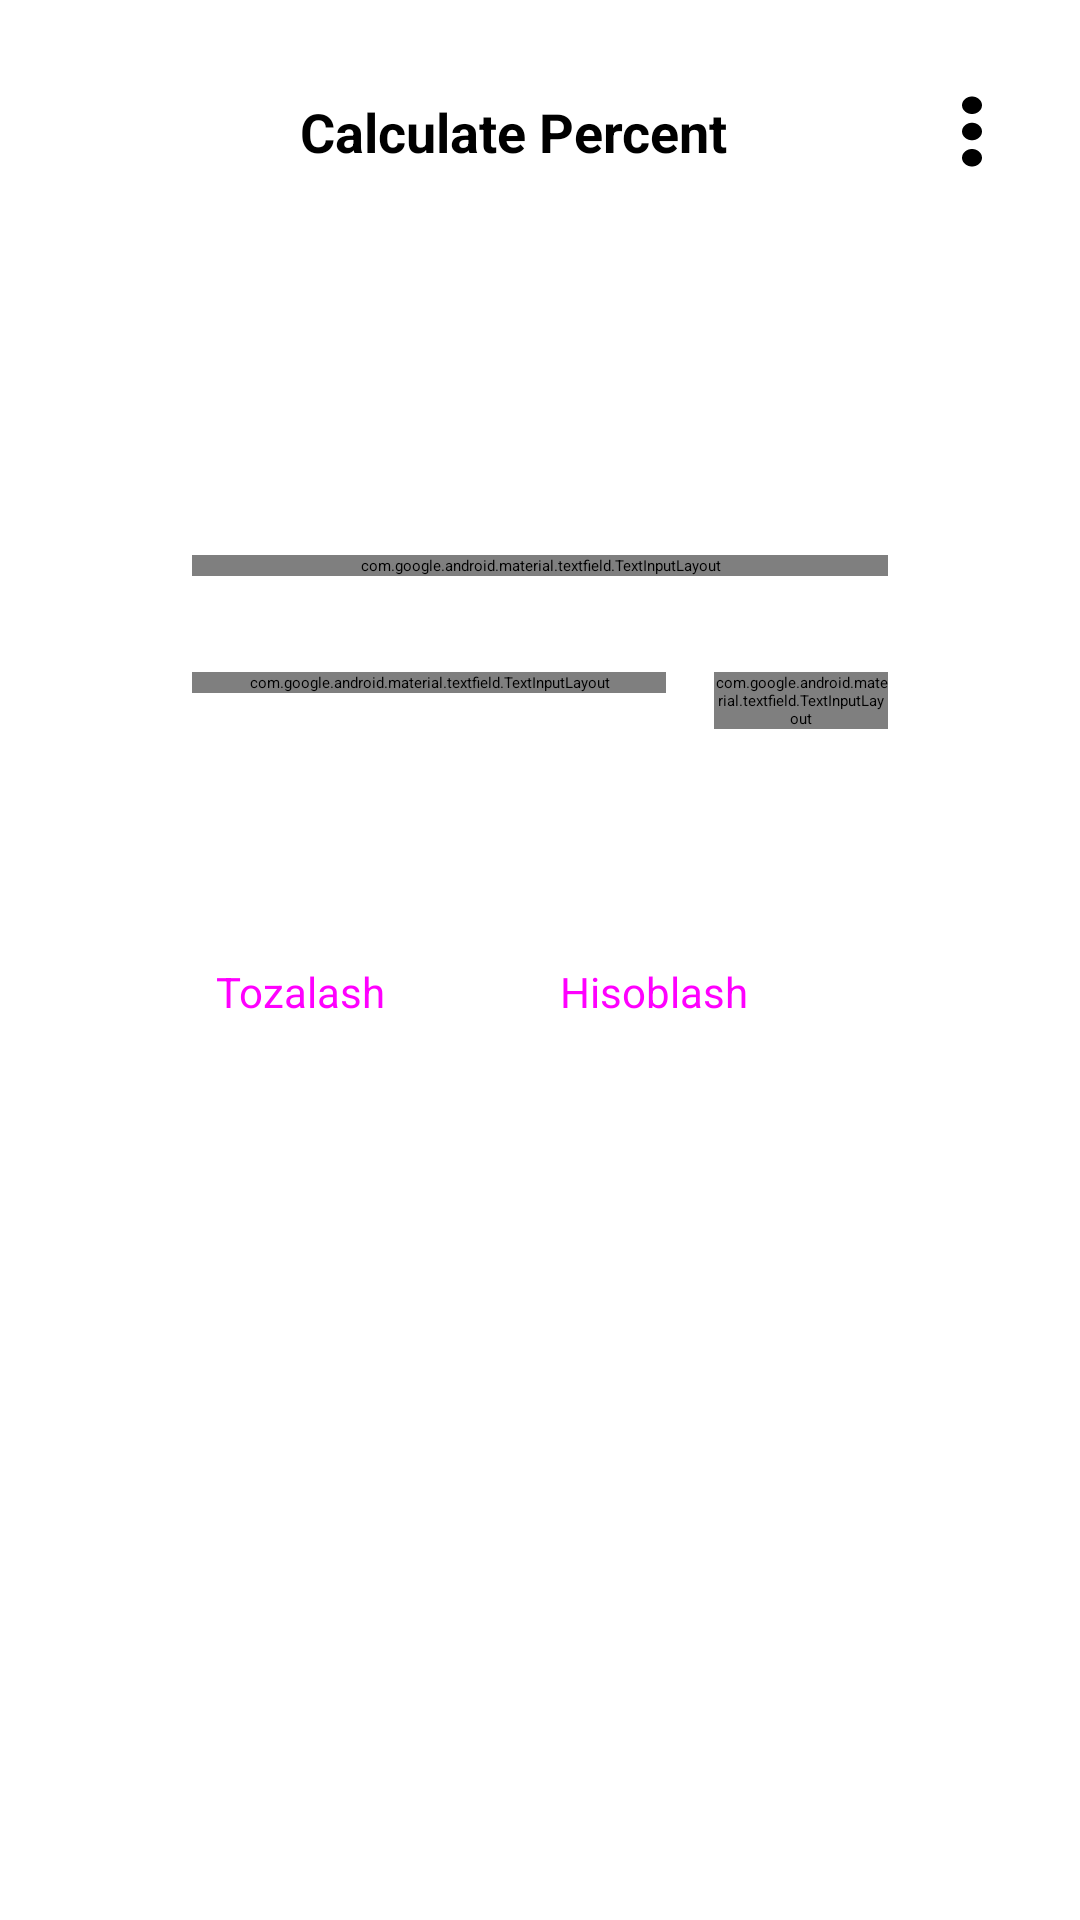

Icon click points for this 1080*1920 phone screenshot, format [x,y]:
more vert: [972,131]
